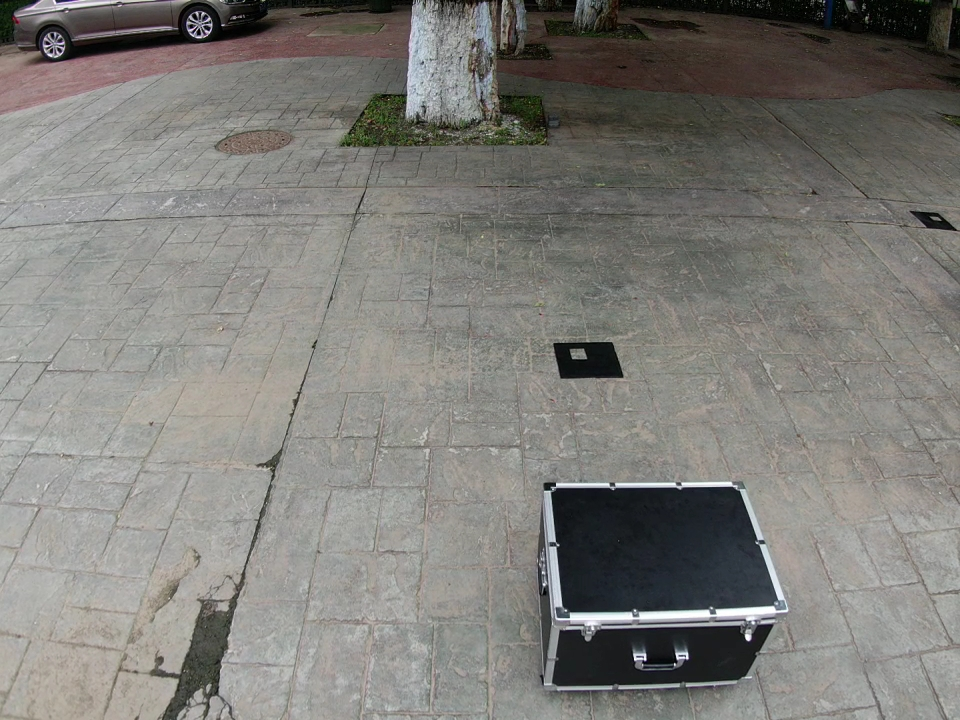box: (536, 482, 787, 691)
qrcode: (553, 342, 623, 378)
